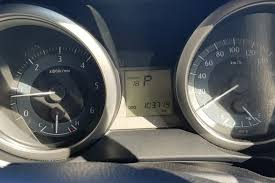Digital_Meter: (123, 67, 175, 121)
